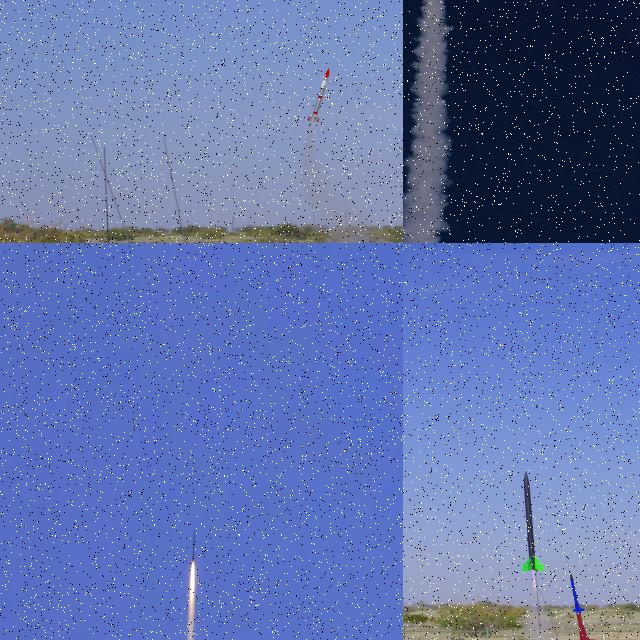Rocket: (520, 470, 546, 572), (569, 571, 597, 640), (307, 68, 330, 122), (192, 529, 195, 562)
